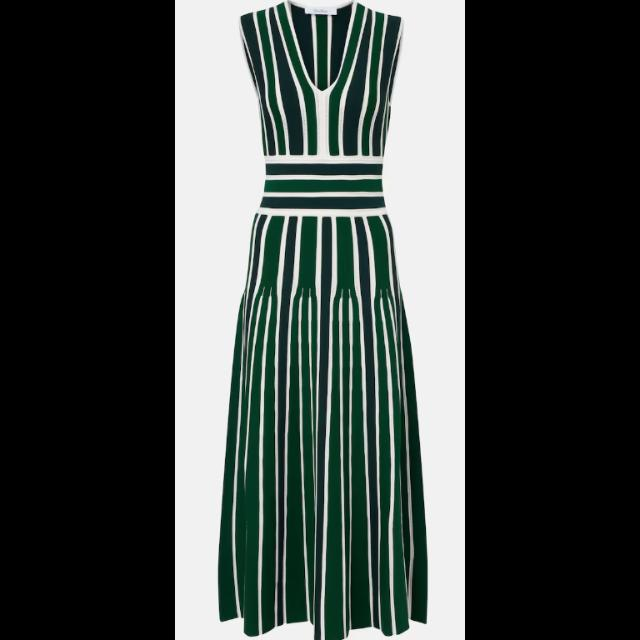dress: (220, 4, 438, 640)
